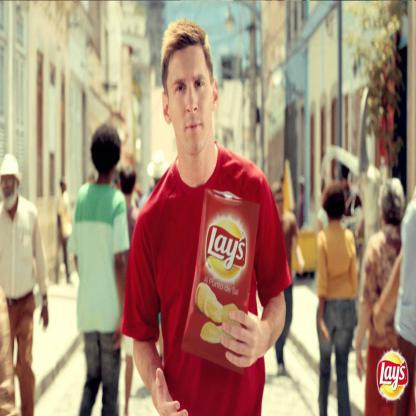tangy_tomato: (180, 186, 262, 372)
